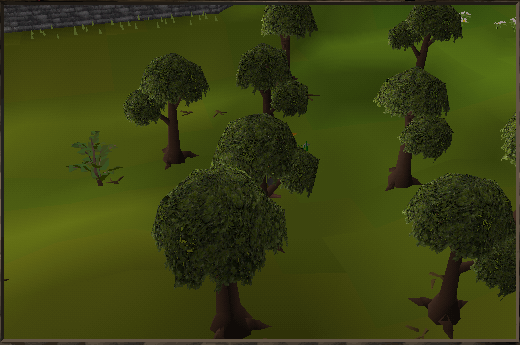Tree: (162, 169, 272, 334), (392, 187, 505, 328), (376, 72, 448, 191), (126, 57, 202, 163), (391, 7, 459, 65), (260, 5, 314, 76), (242, 42, 284, 117)
